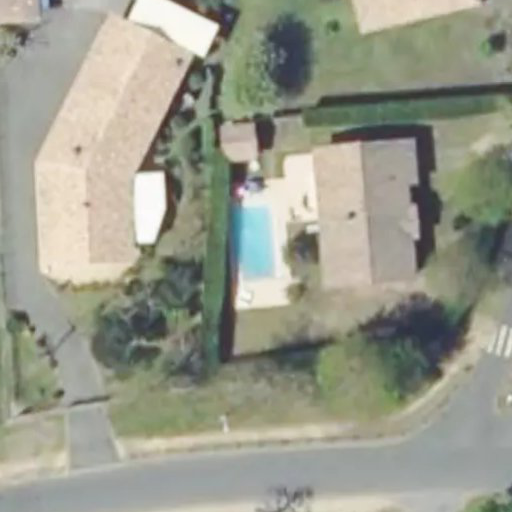pool: (227, 206, 277, 282)
